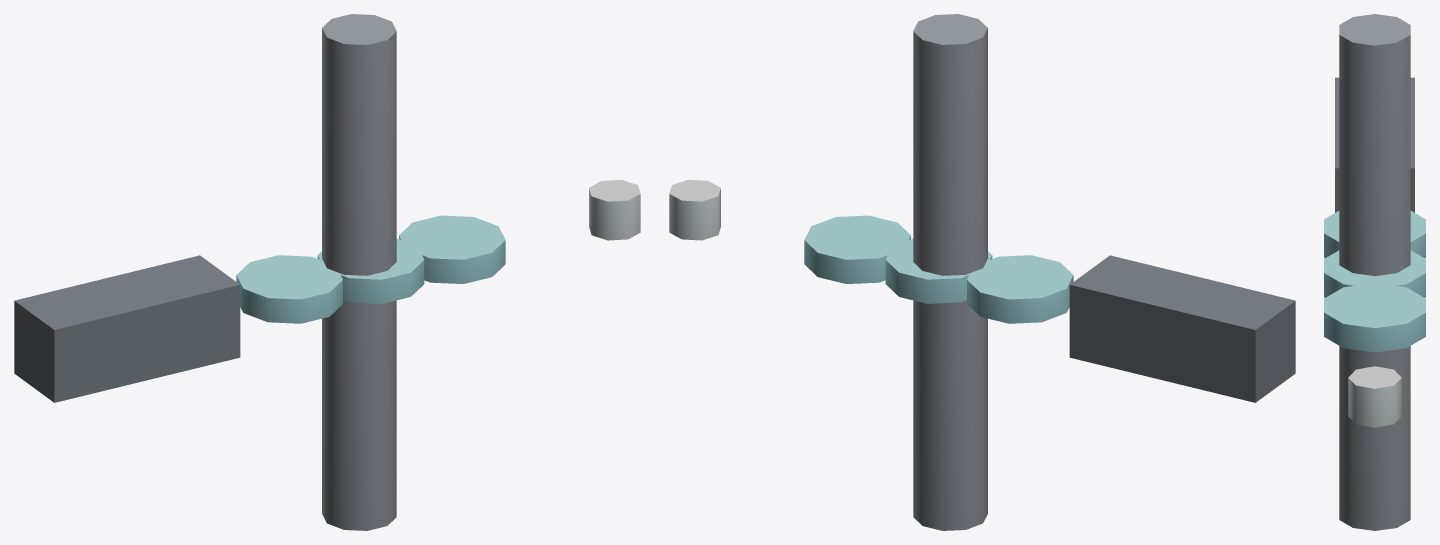
The model's file is t_laser_b.glb.
3 views of the same model, side by side, from view 1: azimuth 30°, elevation 25°; view 2: azimuth 150°, elevation 25°; view 3: azimuth 270°, elevation 25° (orthographic).
Parts seen in each view (by area): view 1: t_laser_b; view 2: t_laser_b; view 3: t_laser_b.
Boxes of the visible parts, x1,y1,x2,y2 form: t_laser_b: (14,14,640,530); t_laser_b: (669,14,1295,530); t_laser_b: (1324,14,1425,530).
Size of the model in its own units: 2.6 by 2 by 0.3804.
